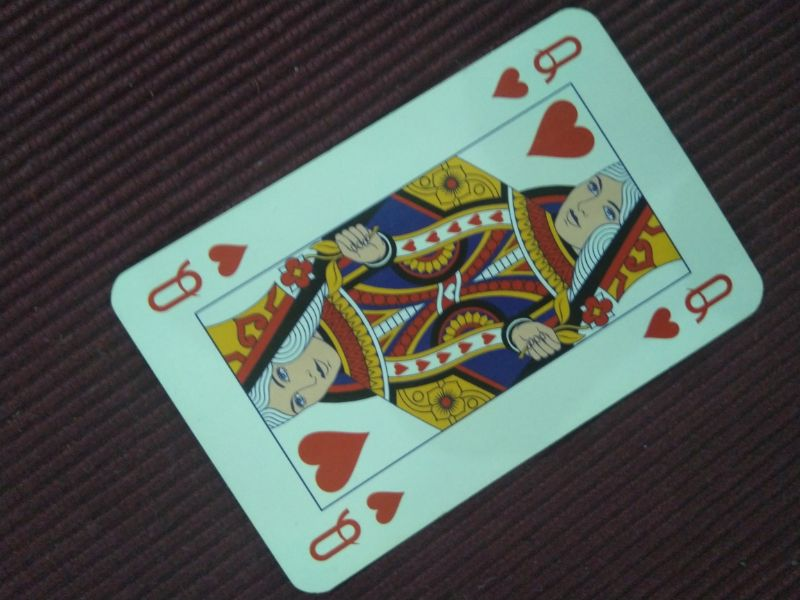Qh: (146, 241, 250, 317), (305, 488, 405, 563), (639, 268, 739, 343), (489, 32, 588, 102)
